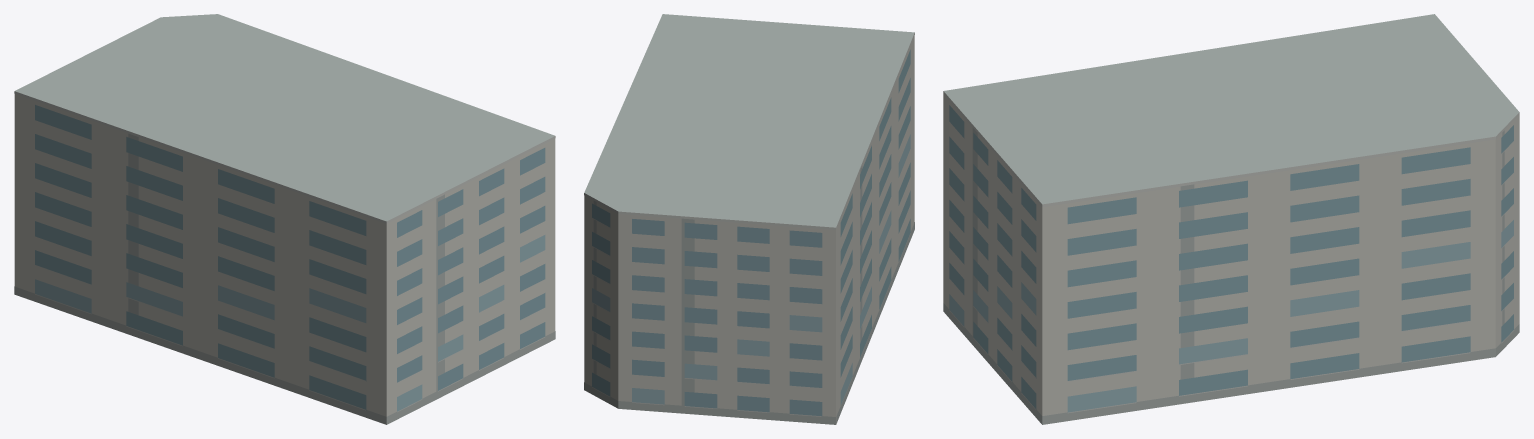
File: survey-upis-33029506.glb
The picture shows the model from 3 angles, left to right: view 1: azimuth 30°, elevation 25°; view 2: azimuth 150°, elevation 25°; view 3: azimuth 270°, elevation 25°; orthographic projection. The views are drawn at different scales.
Visible parts, largest first — view 1: survey-upis-33029506.tmp; view 2: survey-upis-33029506.tmp; view 3: survey-upis-33029506.tmp.
Boxes of the visible parts, x1,y1,x2,y2 form: survey-upis-33029506.tmp: (14,14,555,424); survey-upis-33029506.tmp: (584,14,914,424); survey-upis-33029506.tmp: (943,14,1519,424).
Size of the model in its own units: 36.95 by 19.95 by 47.24.
